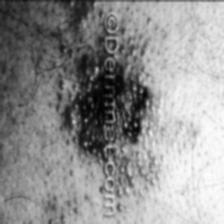Unclassified: (119, 0, 169, 207), (54, 0, 100, 174)
